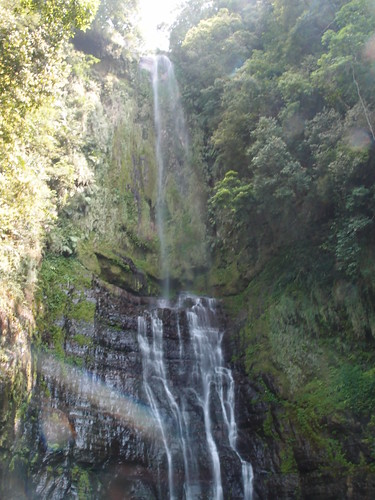wufengciWaterfall: (78, 34, 284, 493)
